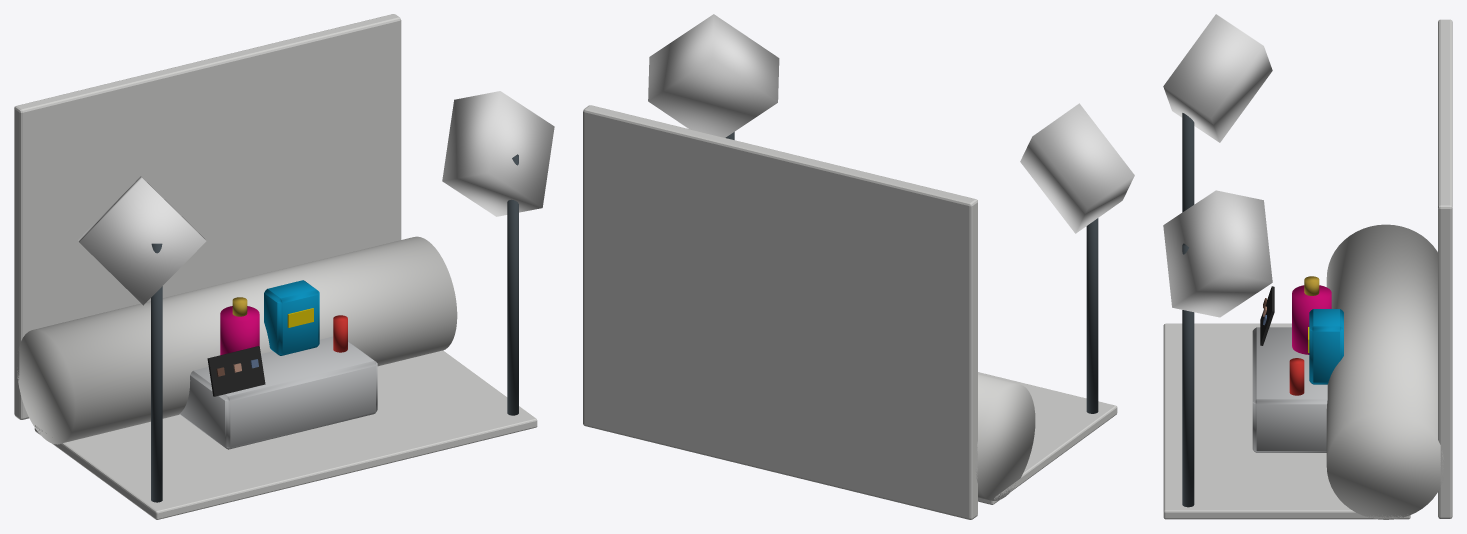
The model's file is m_studio.glb.
3 views of the same model, side by side, from view 1: azimuth 30°, elevation 25°; view 2: azimuth 150°, elevation 25°; view 3: azimuth 270°, elevation 25° (orthographic). The views are drawn at different scales.
Visible parts, largest first — view 1: m_studio; view 2: m_studio; view 3: m_studio.
Part boxes in pixels (<box>): m_studio: <box>14,14,554,519</box>; m_studio: <box>583,14,1134,519</box>; m_studio: <box>1163,14,1452,519</box>.
Size of the model in its own units: 1.12 by 0.7231 by 0.5858.
